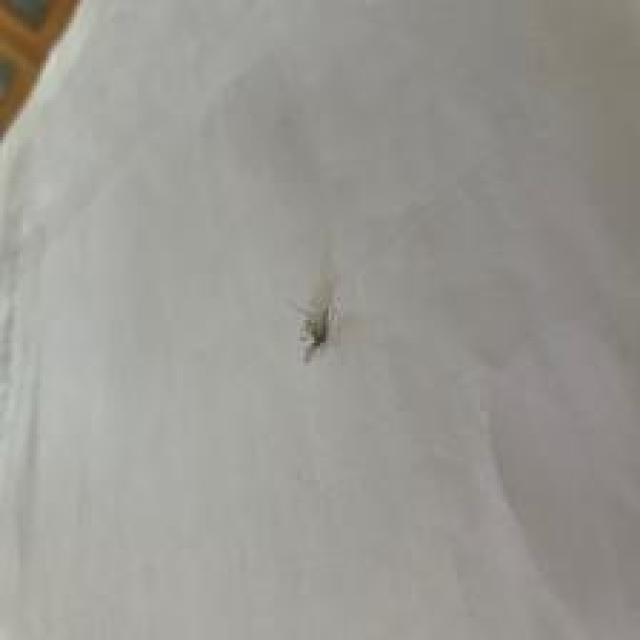Culex: (293, 233, 341, 364)
